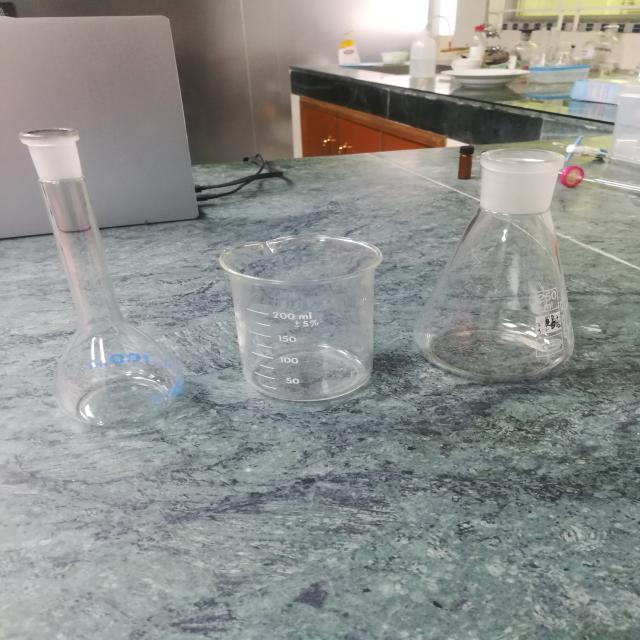Beaker: (209, 195, 406, 421)
Conical_Flask: (420, 128, 614, 388)
Volumetric_Flask: (16, 97, 198, 447)
